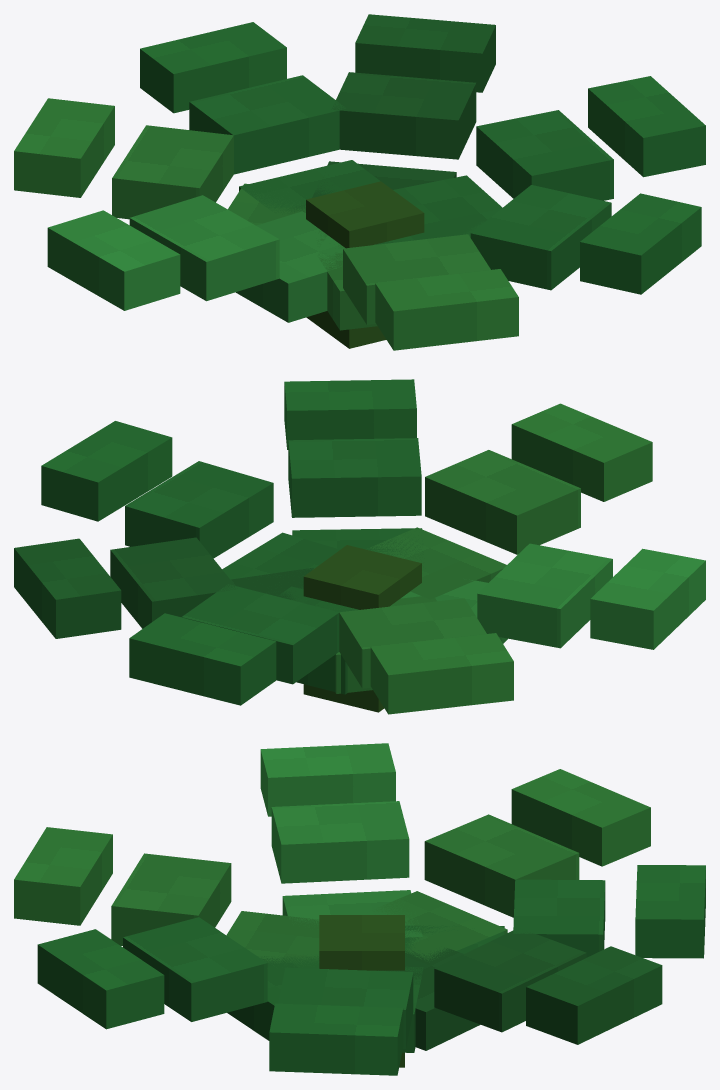
Rendered from fern_1.glb.
3 renders of one model, top to bottom at view 1: azimuth 30°, elevation 25°; view 2: azimuth 150°, elevation 25°; view 3: azimuth 270°, elevation 25°, orthographic.
Visible parts, largest first — view 1: Plant; view 2: Plant; view 3: Plant.
Part boxes in pixels (<box>): Plant: <box>14,14,705,350</box>; Plant: <box>14,379,705,714</box>; Plant: <box>14,743,705,1075</box>.
Size of the model in its own units: 0.8107 by 0.205 by 0.807.
13 materials, 13 textured.
